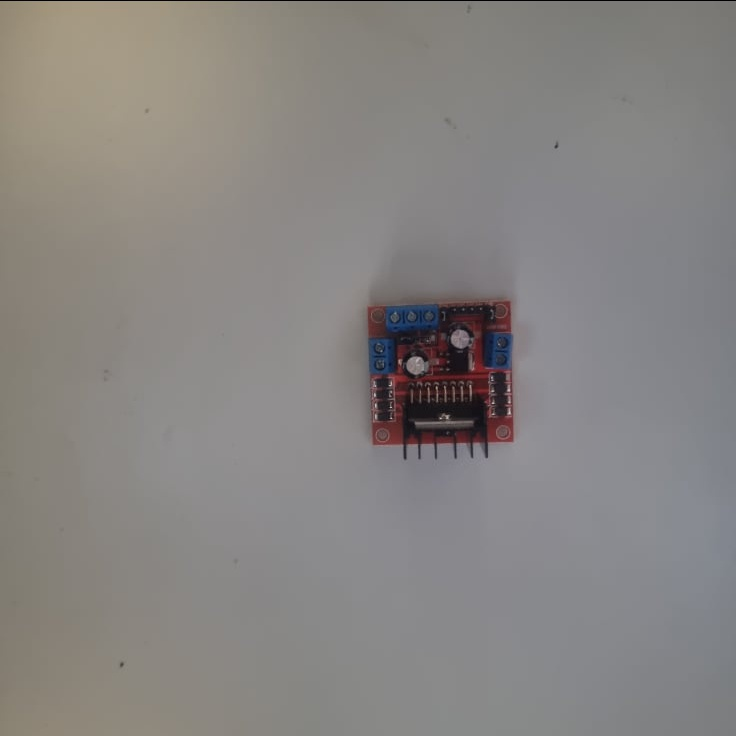MOTOR: (362, 299, 516, 458)
